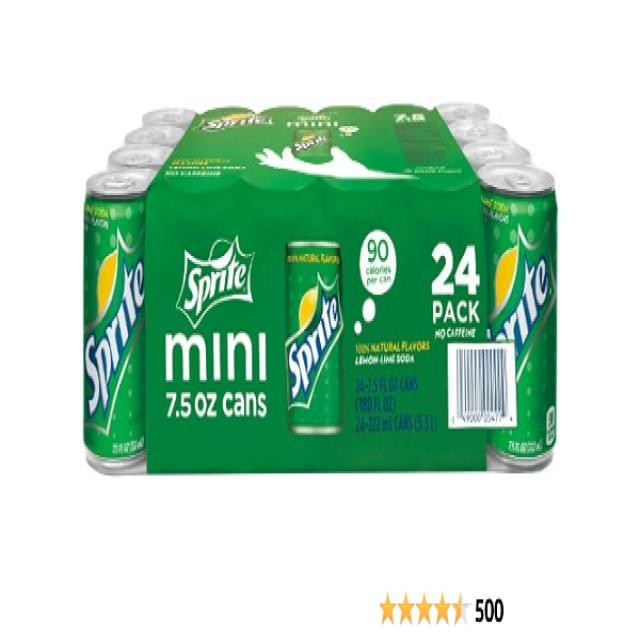sprite: (474, 168, 572, 487), (76, 182, 162, 474), (277, 240, 362, 448), (292, 118, 338, 196)
